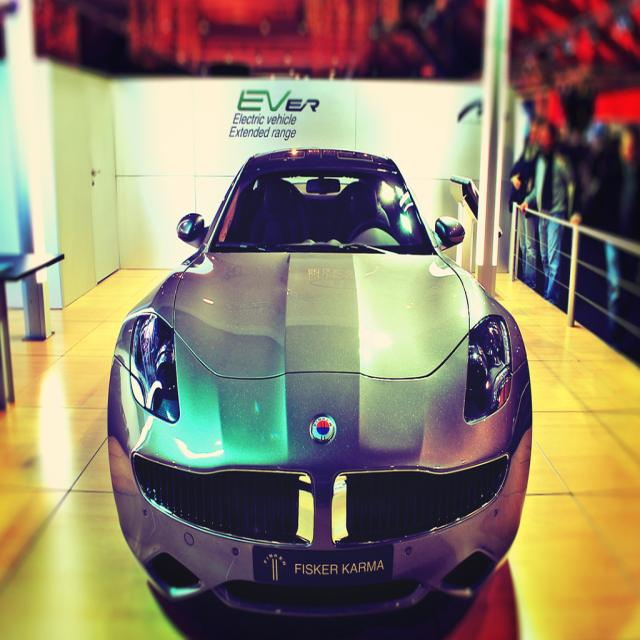car: (100, 133, 538, 613)
